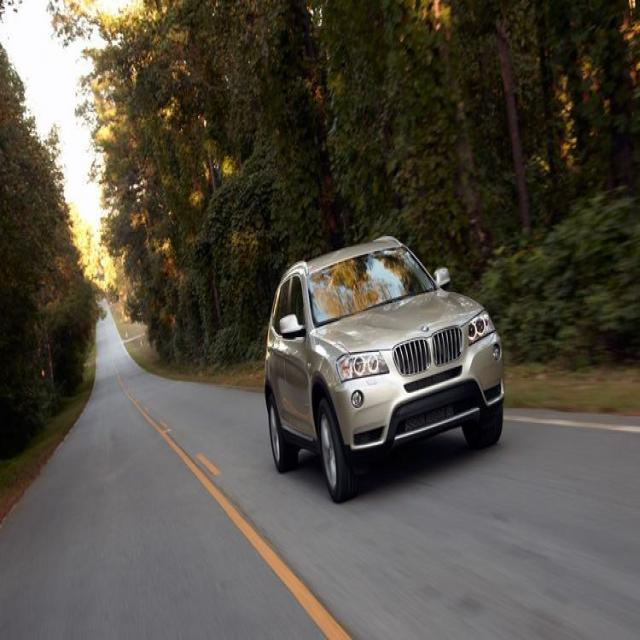Car: (238, 220, 530, 519)
